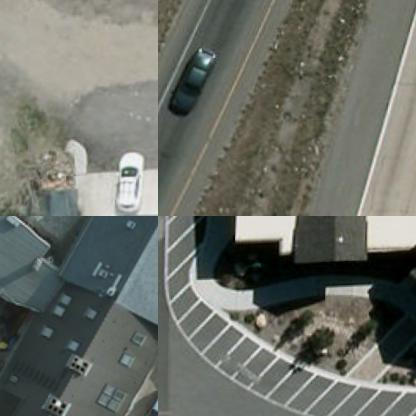car: (168, 46, 225, 118), (115, 147, 152, 212), (137, 386, 157, 415)
